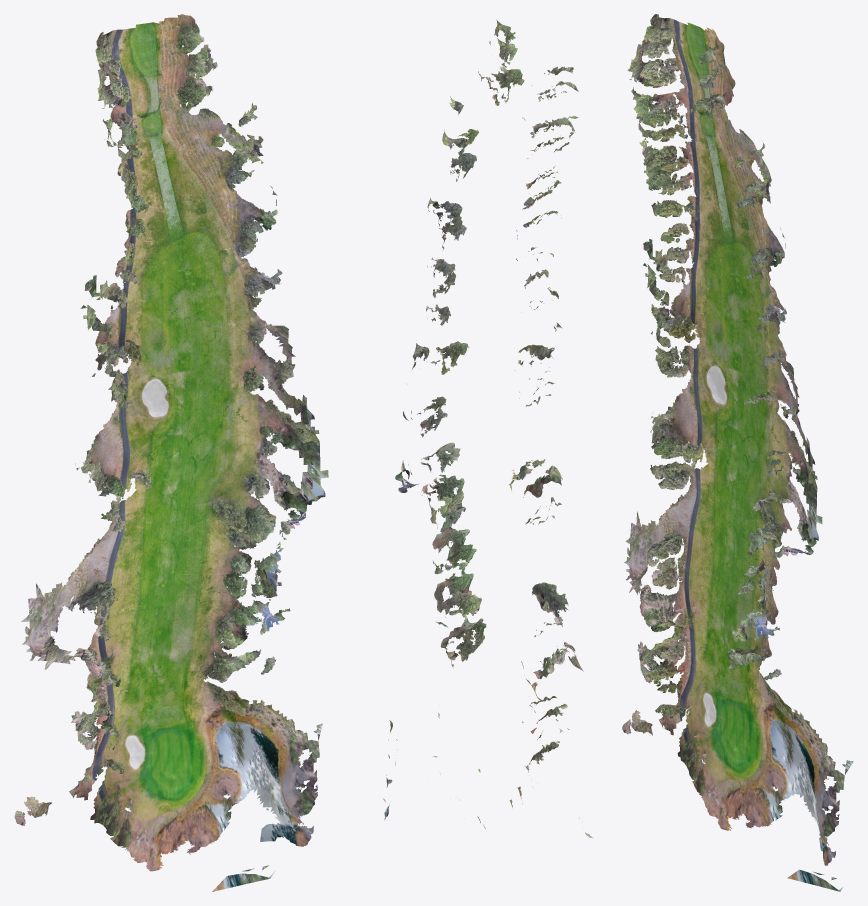
3 renders of one model, left to right at view 1: azimuth 30°, elevation 25°; view 2: azimuth 150°, elevation 25°; view 3: azimuth 330°, elevation 25°, orthographic. The views are drawn at different scales.
Size of the model in its own units: 129 by 404 by 48.02.
24 materials, 24 textured.
